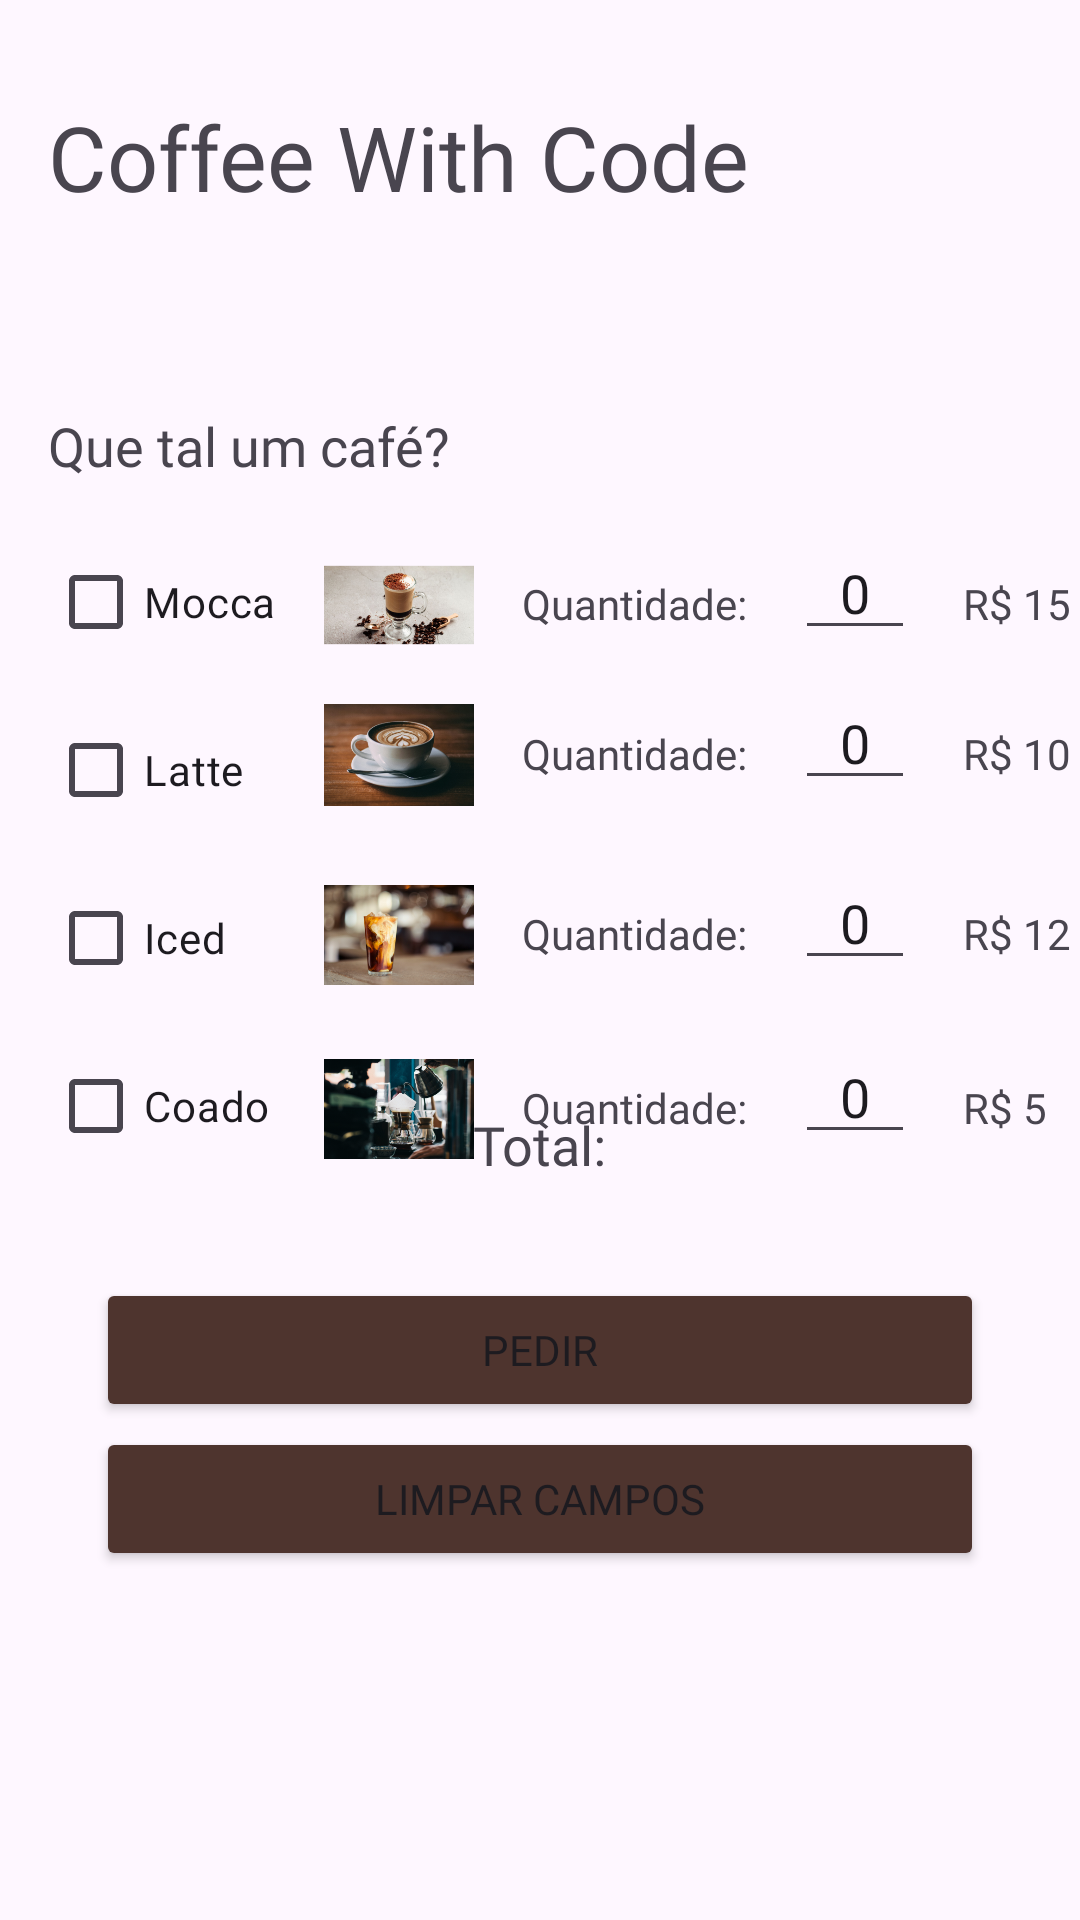

Named icons in this screenshot (1080x1920) and their bounding boxes, (x1, y1, x2, y2):
mocaccino: (324, 566, 474, 645)
